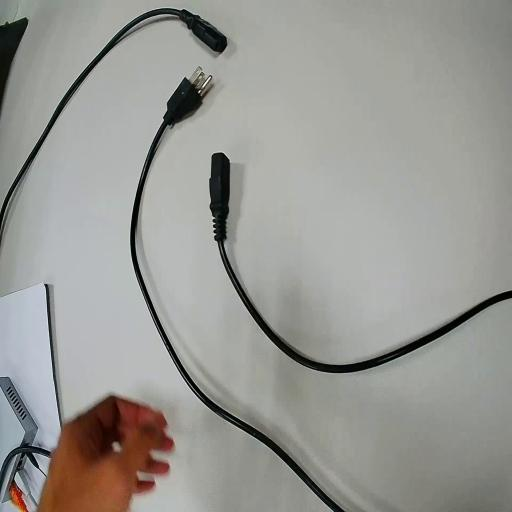wire: (131, 79, 343, 511), (211, 154, 511, 372), (0, 8, 229, 223)
